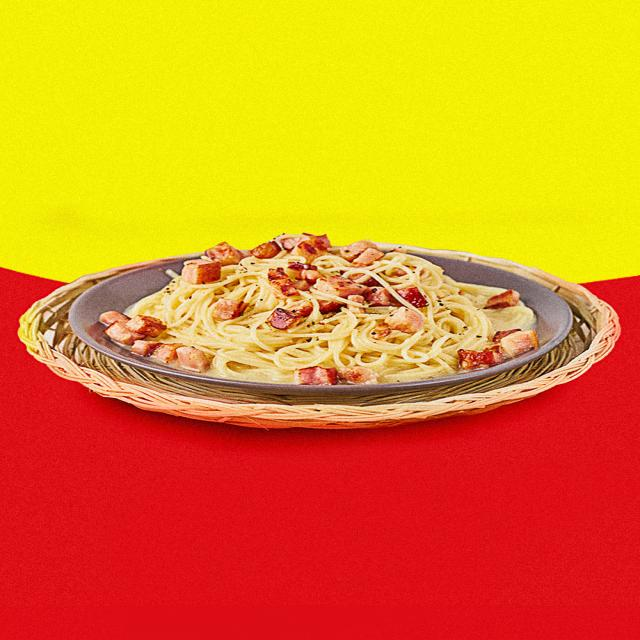pasta: (86, 233, 541, 388)
